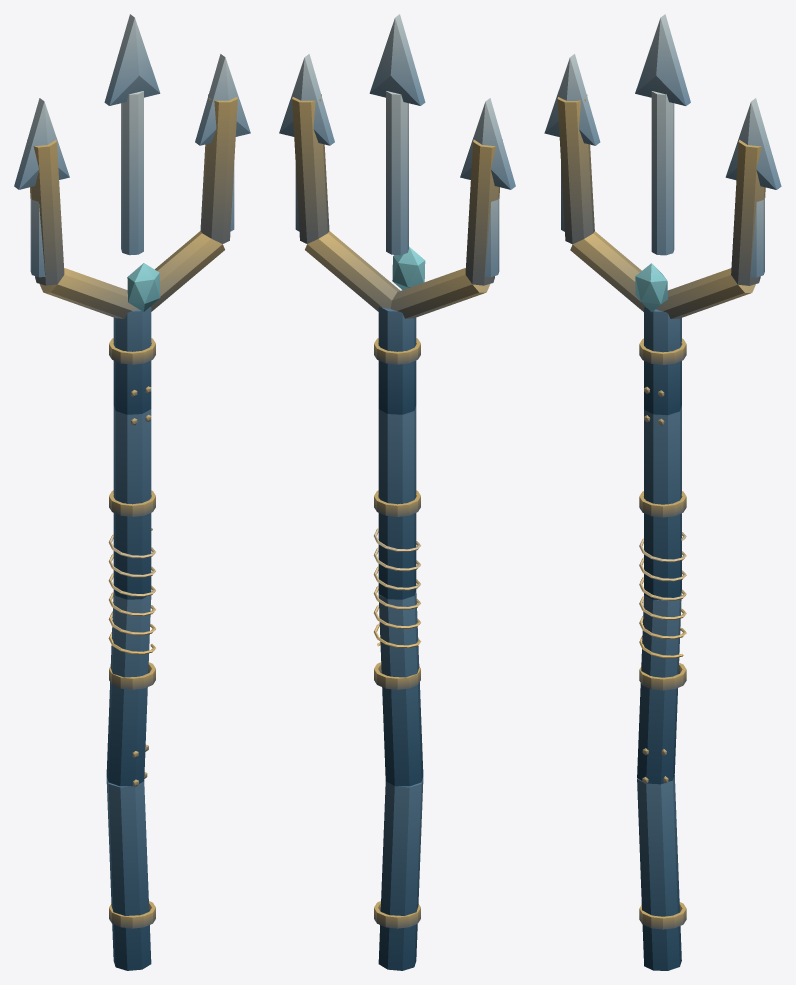
File: baston_tridente_regio.glb
3 renders of one model, left to right at view 1: azimuth 30°, elevation 25°; view 2: azimuth 150°, elevation 25°; view 3: azimuth 330°, elevation 25°, orthographic.
Visible parts, largest first — view 1: baston_tridente_regio_finished; view 2: baston_tridente_regio_finished; view 3: baston_tridente_regio_finished.
Boxes of the visible parts, <box> form: baston_tridente_regio_finished: <box>14,14,250,970</box>; baston_tridente_regio_finished: <box>279,14,515,970</box>; baston_tridente_regio_finished: <box>544,14,781,970</box>.
Size of the model in its own units: 0.59 by 2.3 by 0.128.
Materials: 2 (2 with a texture image).
